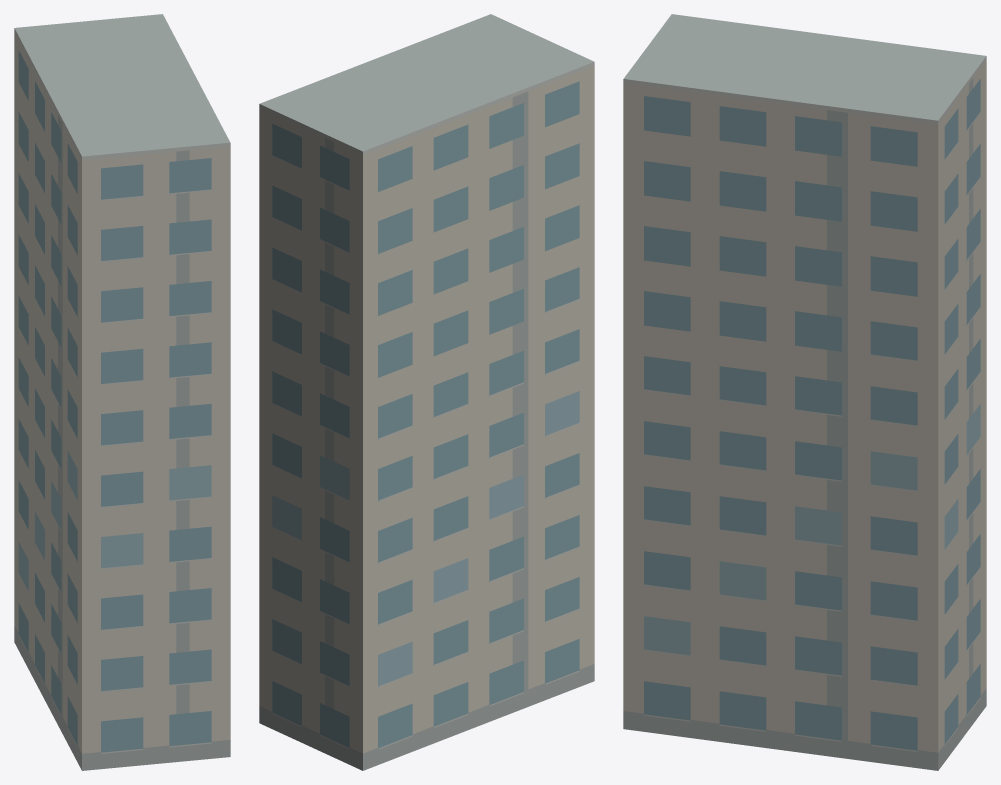
Rendered from residential-7c759e34-af25-4f91-b6ab-edb24e3c6cf2.glb.
3 renders of one model, left to right at view 1: azimuth 30°, elevation 25°; view 2: azimuth 150°, elevation 25°; view 3: azimuth 270°, elevation 25°, orthographic. The views are drawn at different scales.
Visible parts, largest first — view 1: residential-7c759e34-af25-4f91-b6ab-edb24e3c6cf2.tmp; view 2: residential-7c759e34-af25-4f91-b6ab-edb24e3c6cf2.tmp; view 3: residential-7c759e34-af25-4f91-b6ab-edb24e3c6cf2.tmp.
Part boxes in pixels (x1=…): residential-7c759e34-af25-4f91-b6ab-edb24e3c6cf2.tmp: x1=14, y1=14, x2=230, y2=770; residential-7c759e34-af25-4f91-b6ab-edb24e3c6cf2.tmp: x1=259, y1=14, x2=594, y2=770; residential-7c759e34-af25-4f91-b6ab-edb24e3c6cf2.tmp: x1=623, y1=14, x2=986, y2=770.
Bounding box in the file's own units: 13.74 × 39 × 19.75.
